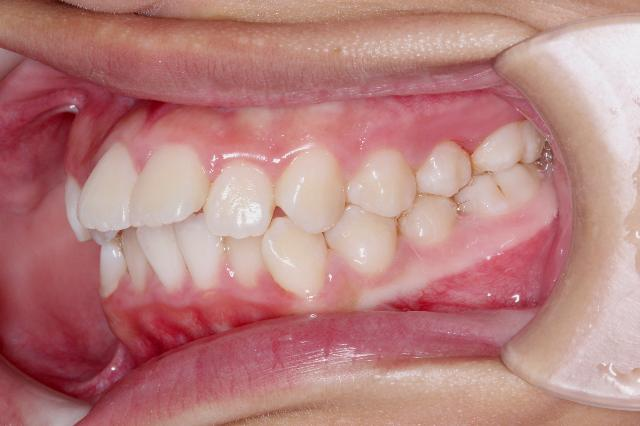canine class II 1/4: (261, 140, 399, 298)
molar class III 1/4: (453, 120, 552, 224)
